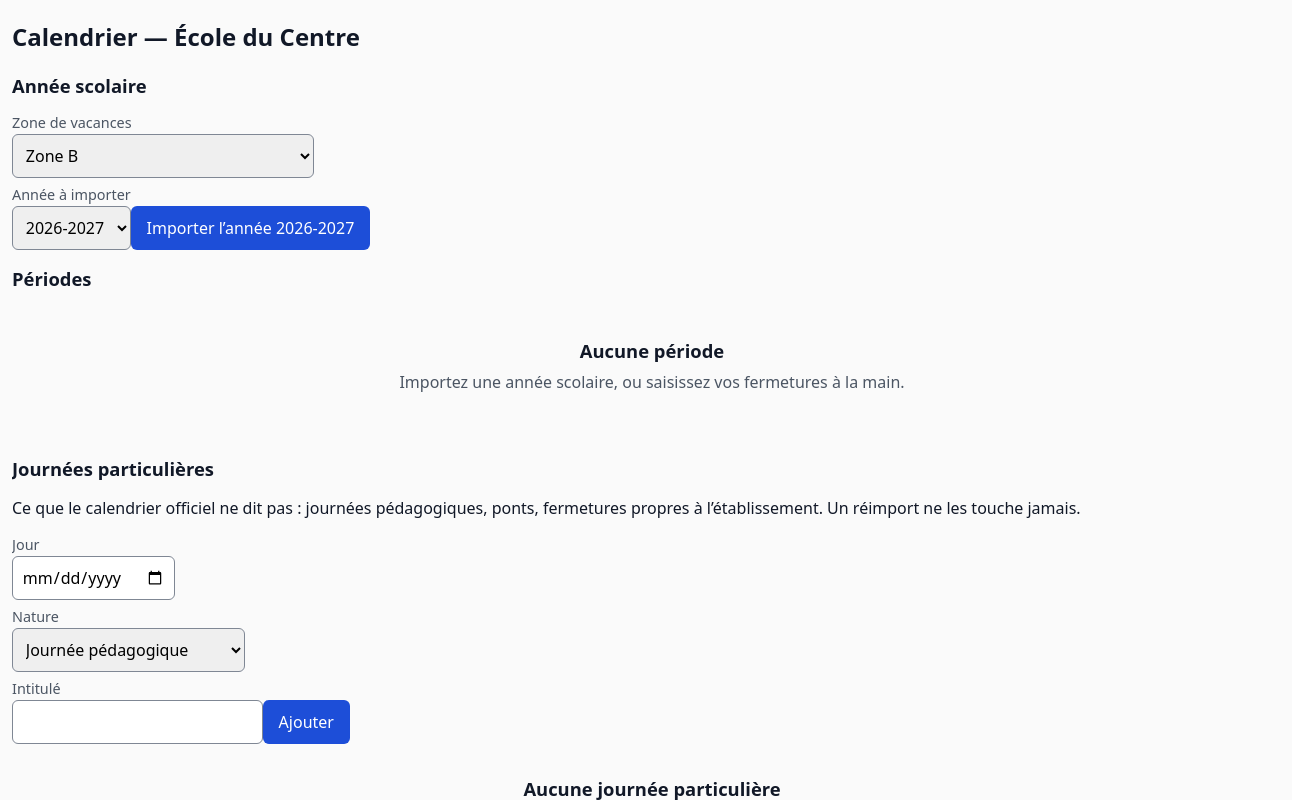
Test: CalendrierPage › reste utilisable quand l’open data tombe (CA3)
Click the button "Importer l’année 2026-2027" at [250, 228], box [131, 206, 370, 250]
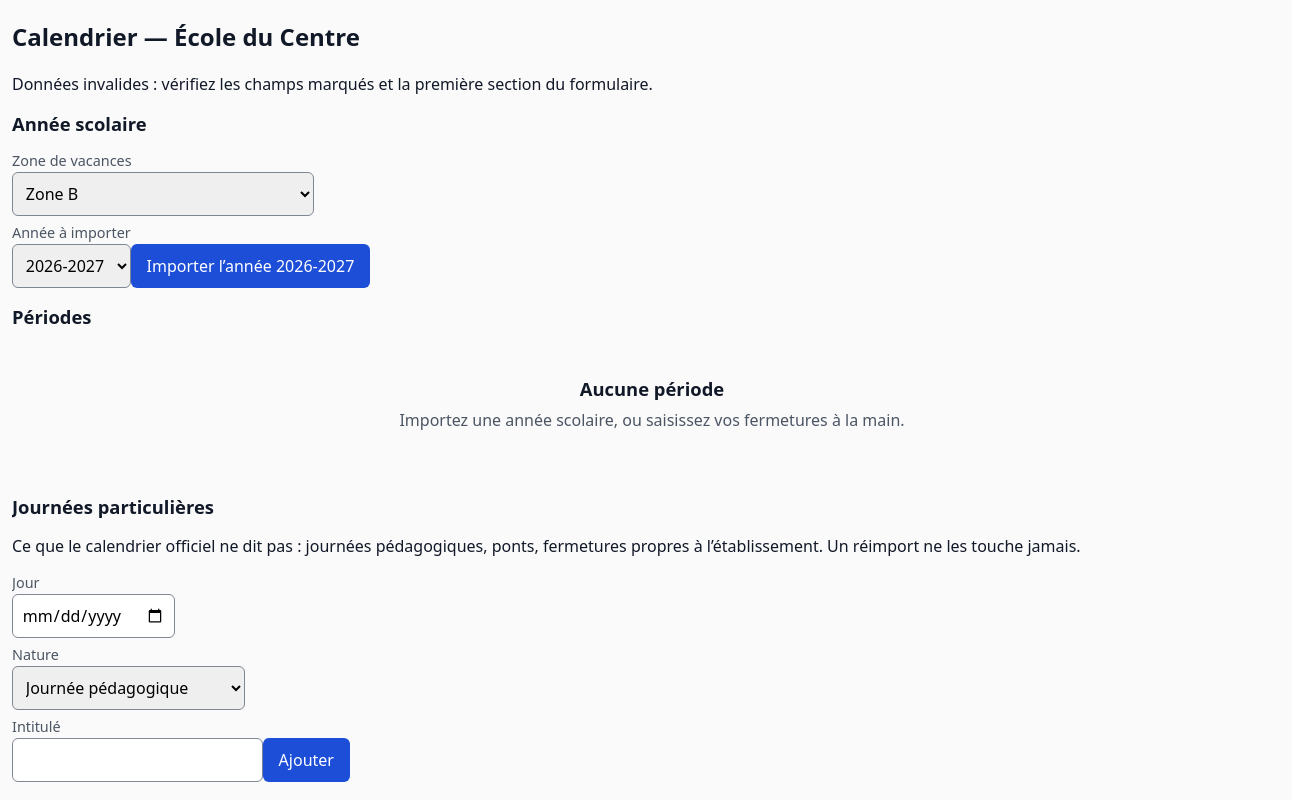
Check: the date field labelled "Jour" is shown, box [12, 594, 175, 638]
Check: the message is shown, box [12, 73, 653, 95]
